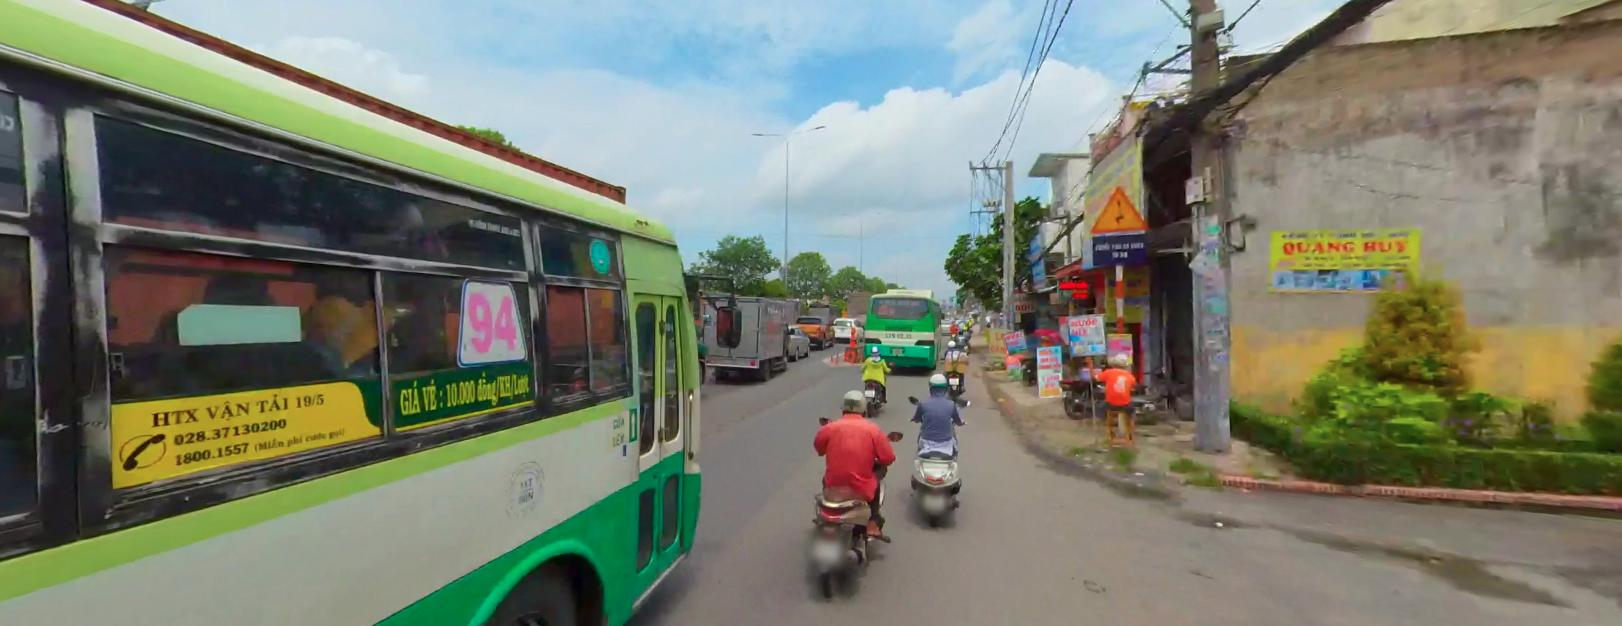Nguy hiem: (1088, 180, 1150, 231)
